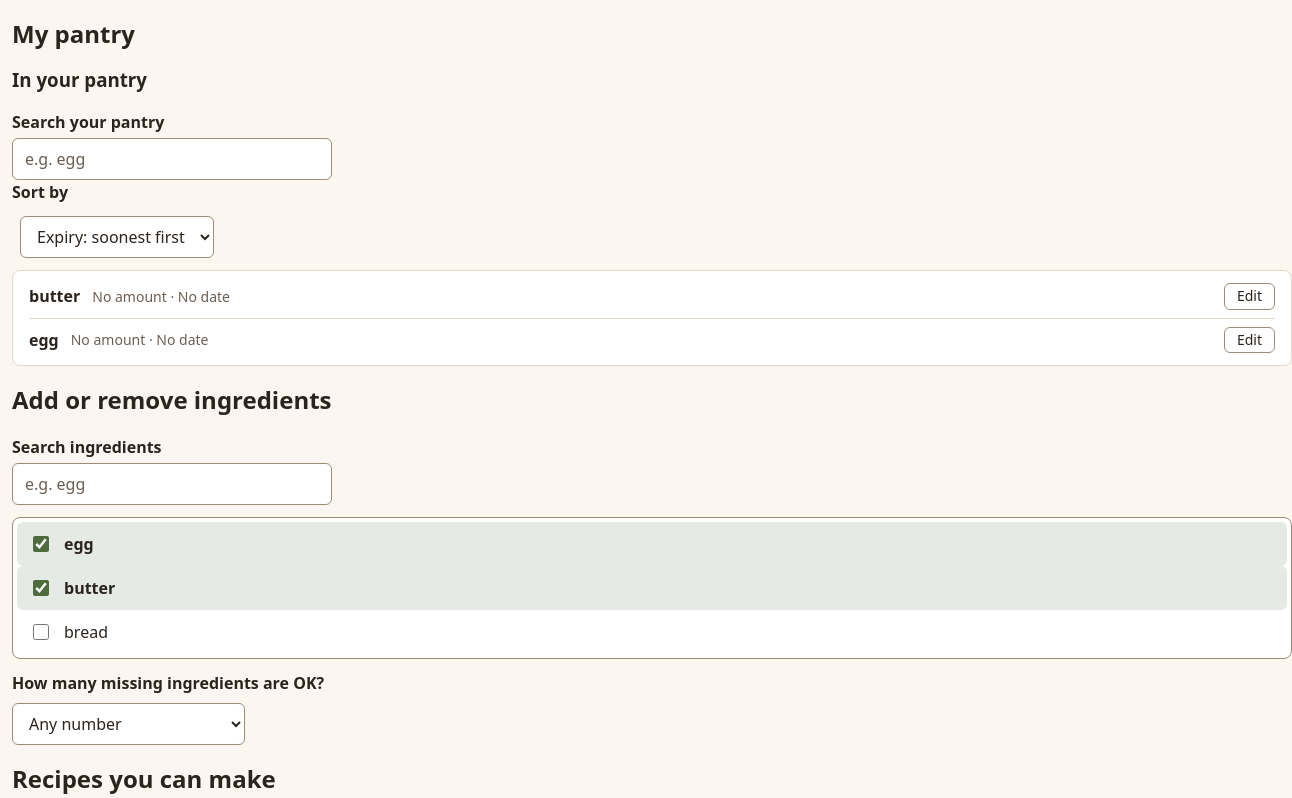
it: PantryPage: changing the pantry › removes an ingredient from its open row and refreshes the matches
Expected: the heading "In your pantry" is shown, [12, 67, 147, 92]
Click the button with aria-label "Edit egg". click: point(1249, 340)
box: [1224, 327, 1275, 353]
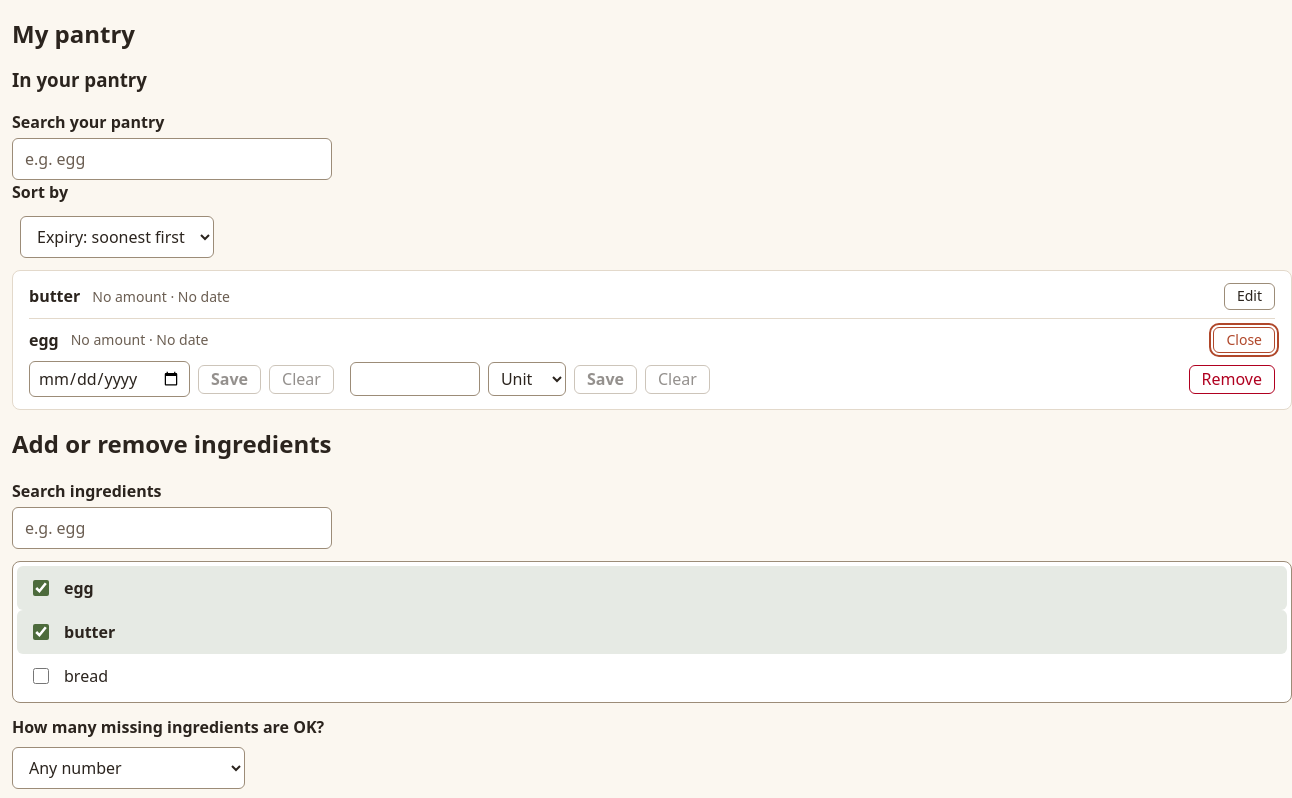
Click the button with aria-label "Remove egg from pantry". click: point(1232, 379)
box: [1188, 365, 1275, 394]
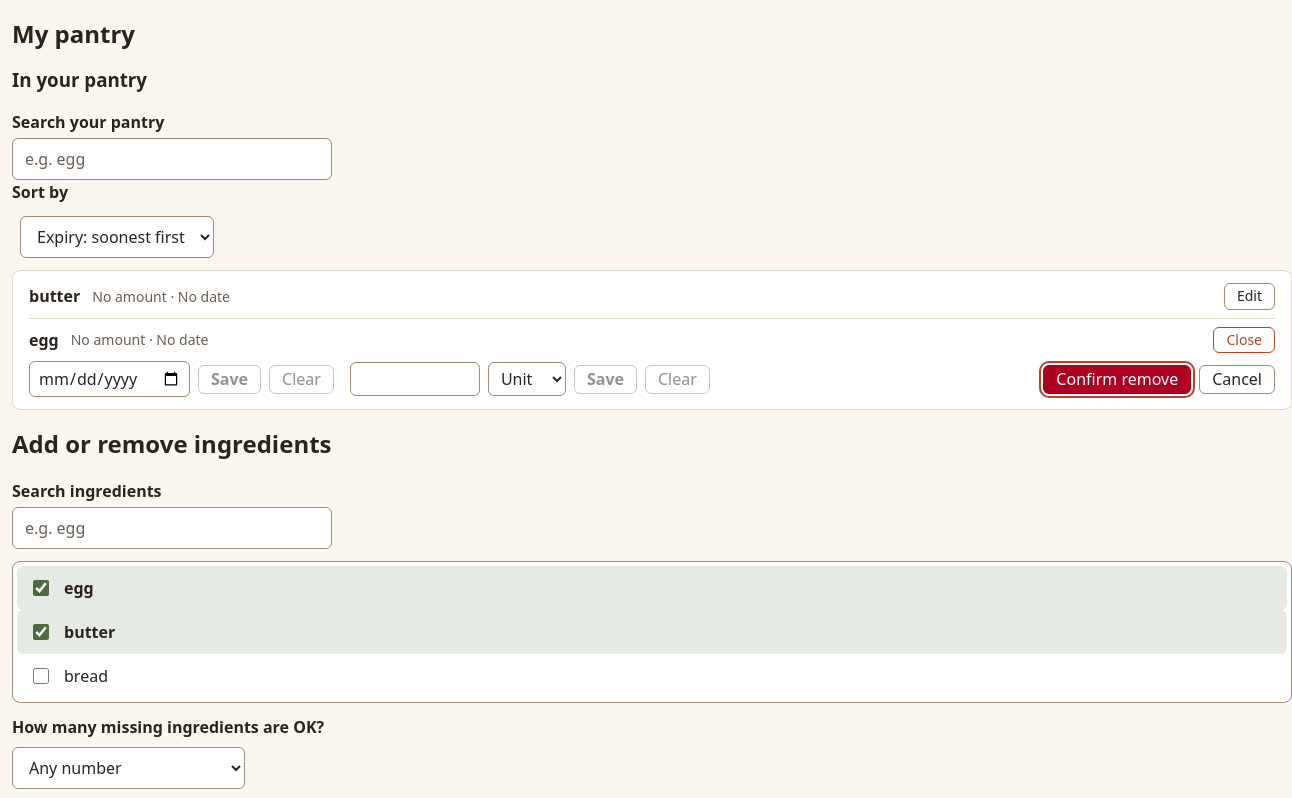
Click the button with aria-label "Confirm removing egg". click: point(1117, 379)
box: [1043, 365, 1191, 394]
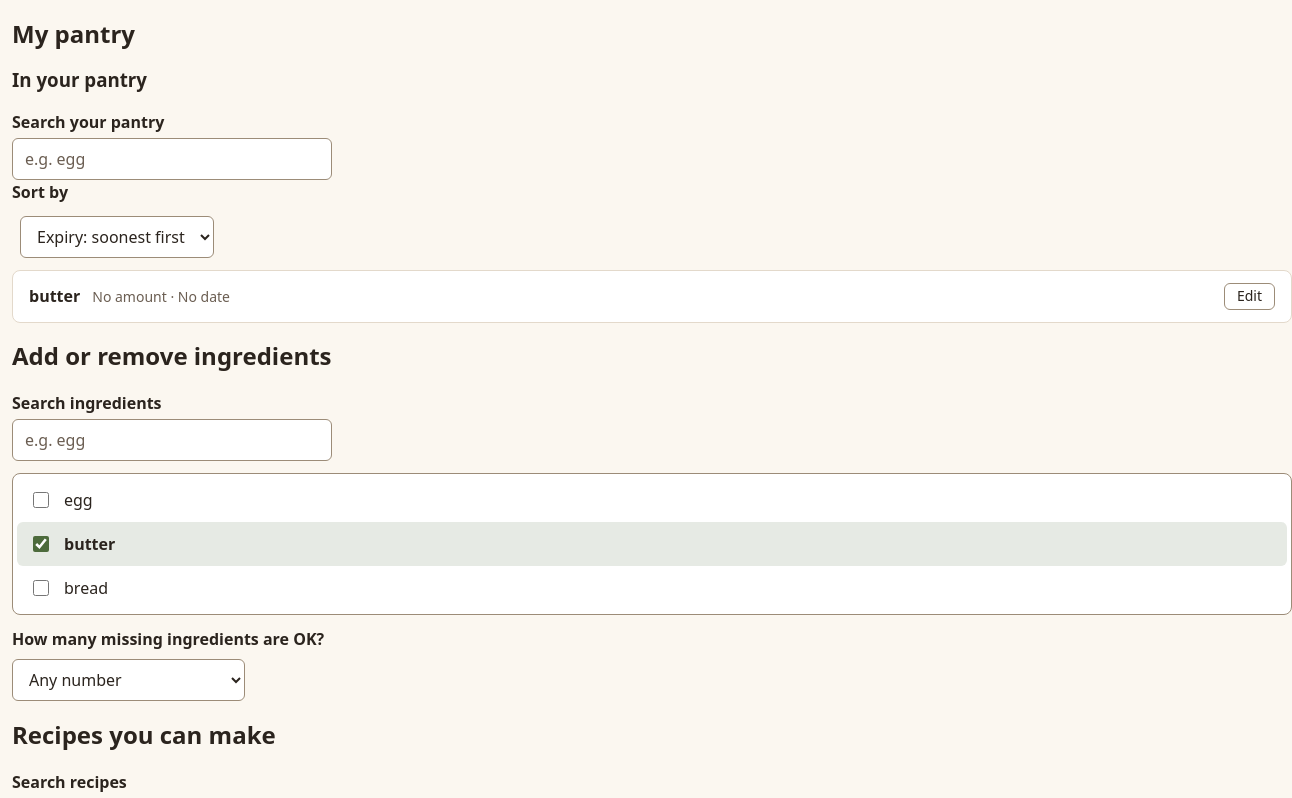
Now the checkbox labelled "egg" is not checked, box [33, 492, 49, 508]
